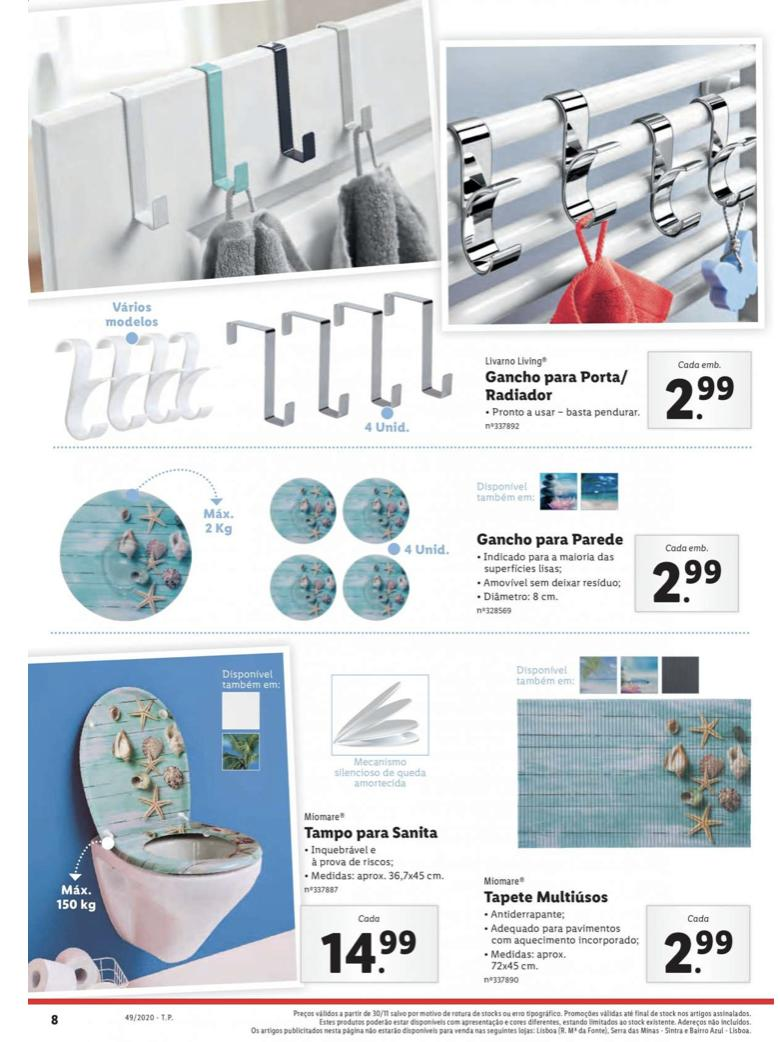name: (483, 363, 636, 407), (473, 527, 627, 554), (299, 822, 442, 844), (483, 888, 610, 908)
price: (316, 922, 424, 979), (657, 370, 742, 422), (661, 926, 740, 980), (649, 560, 727, 604)
product: (22, 645, 447, 1003), (29, 443, 764, 633), (443, 19, 755, 451), (460, 645, 764, 992)
